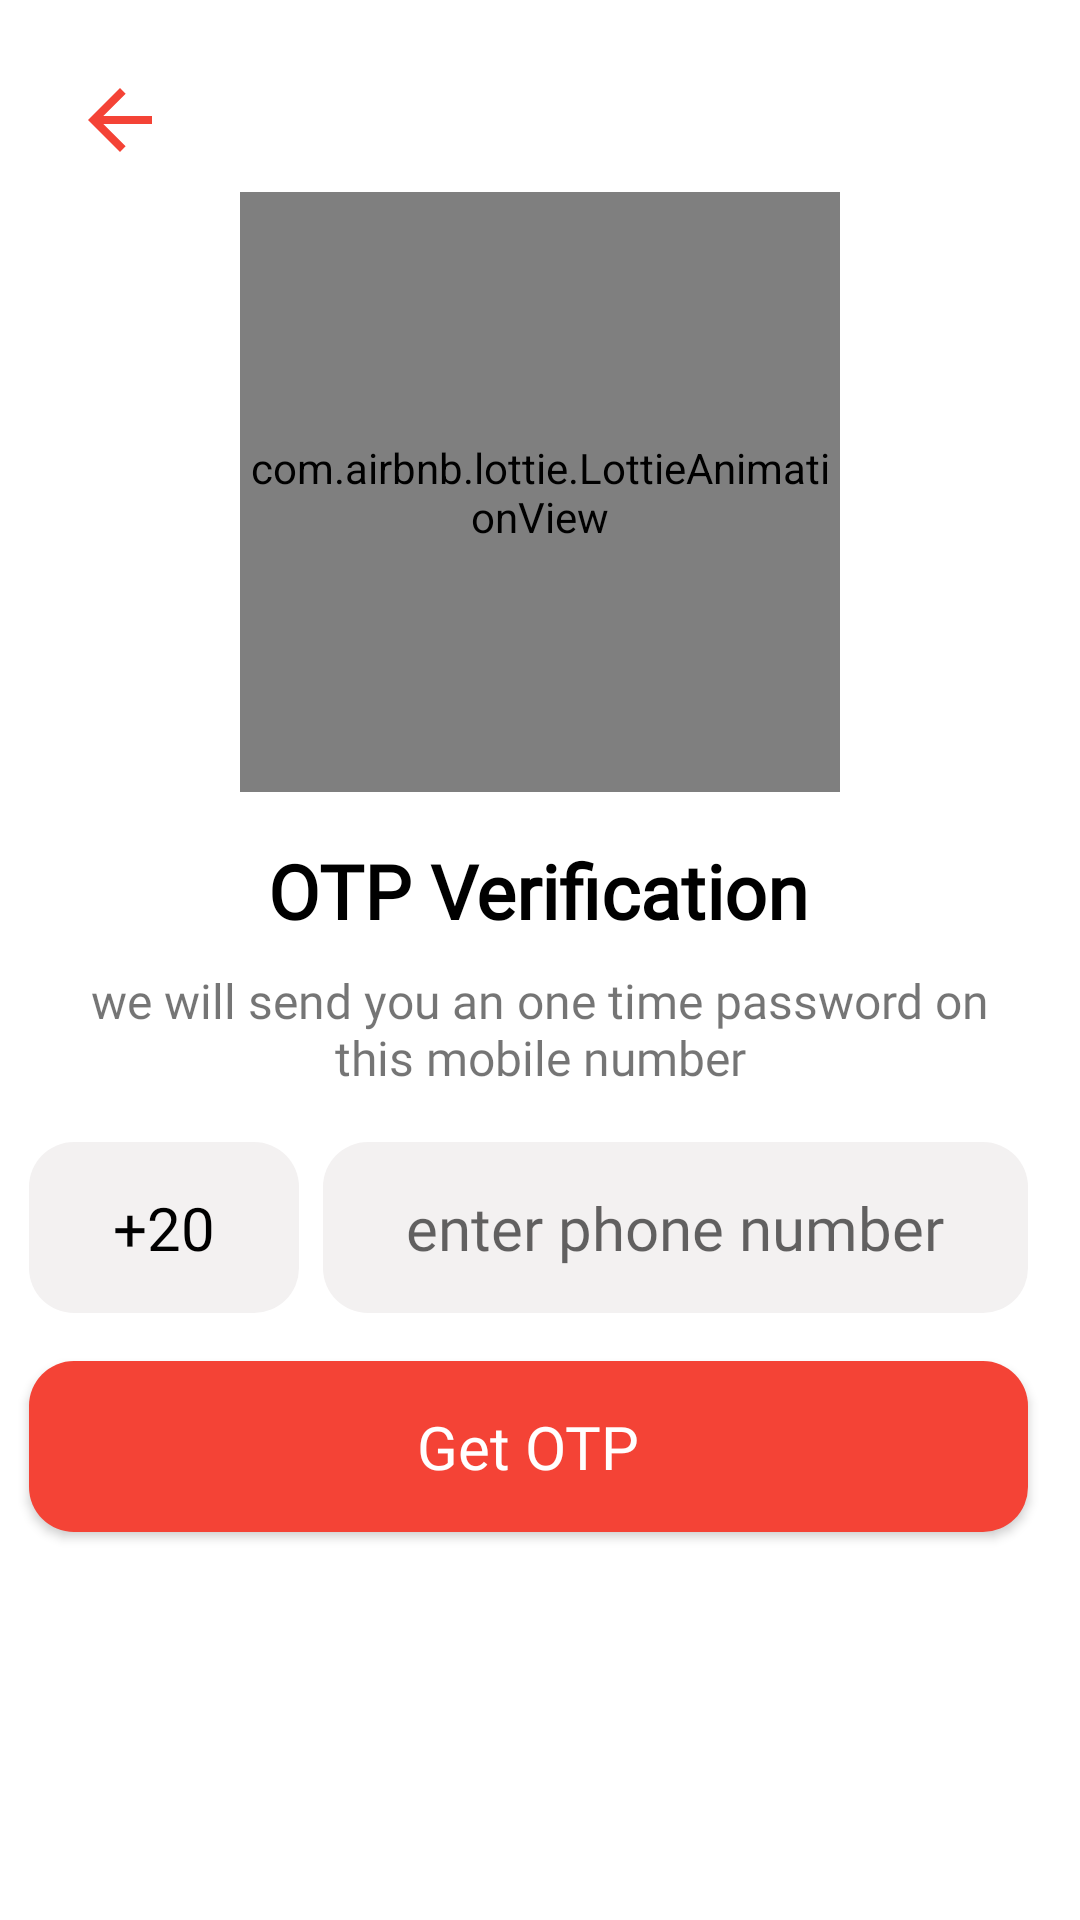

Named icons in this screenshot (1080×1920) and their centers, point (x, y):
arrow back: point (120, 120)
